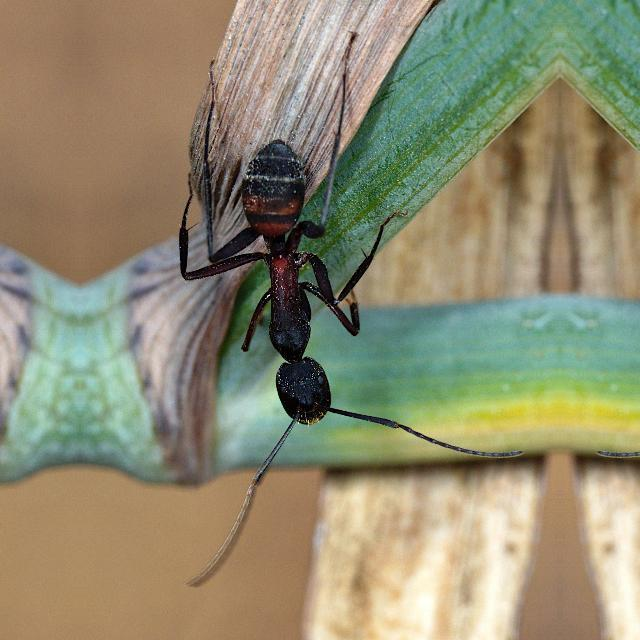Camponotus: (192, 106, 380, 482), (345, 30, 357, 56)
